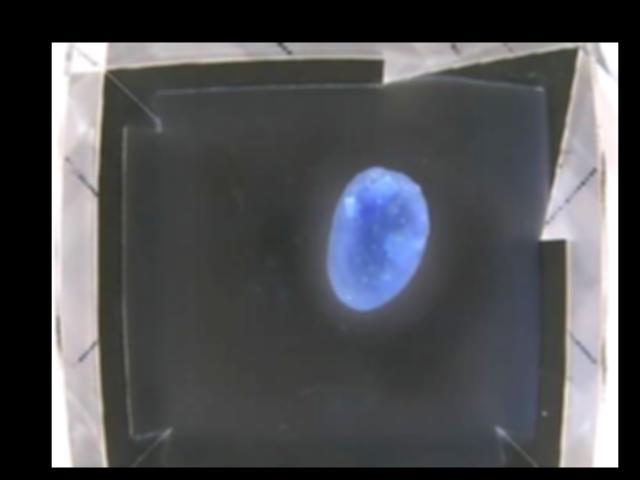Potato: (329, 167, 429, 312)
